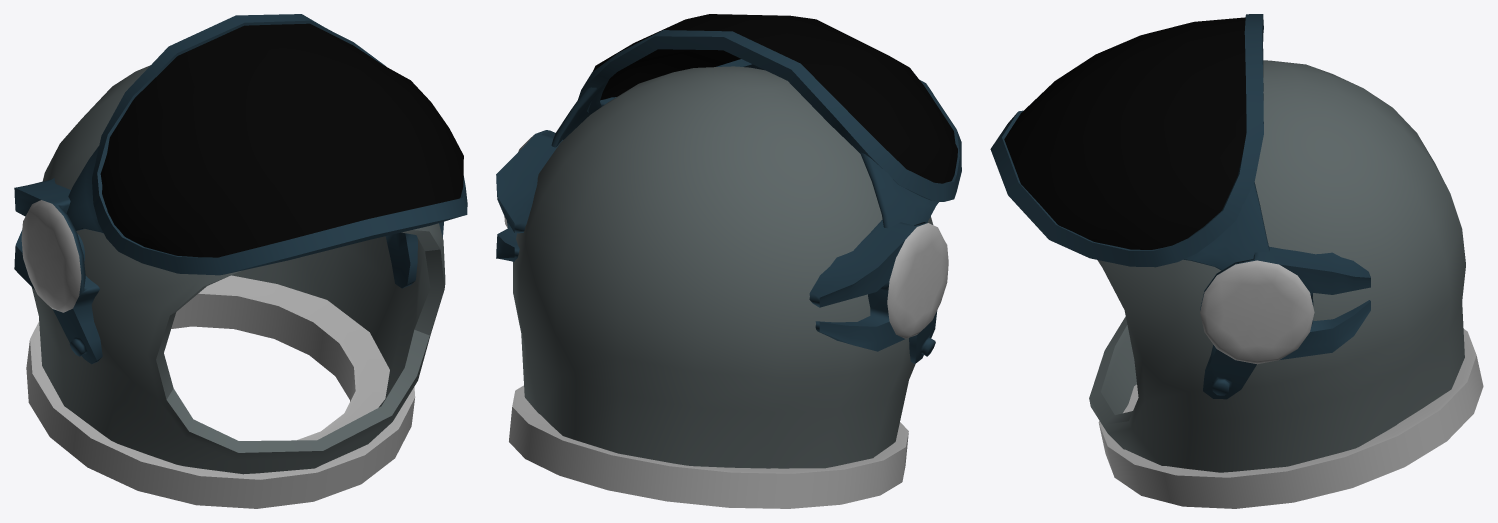
File: HelmetOpened.fbx
3 renders of one model, left to right at view 1: azimuth 30°, elevation 25°; view 2: azimuth 150°, elevation 25°; view 3: azimuth 270°, elevation 25°, orthographic. The views are drawn at different scales.
Parts seen in each view (by area): view 1: polySurface8, MainHelmet, CollarTop, polySurface9, polySurface27, polySurface23, polySurface25, polySurface24; view 2: MainHelmet, polySurface8, CollarTop, polySurface9, polySurface23, polySurface27, polySurface24, polySurface25, polySurface26; view 3: MainHelmet, polySurface8, CollarTop, polySurface9, polySurface28, polySurface24, polySurface26.
Boxes of the visible parts, bbox=[...] form: polySurface8: bbox=[100, 23, 463, 257]; MainHelmet: bbox=[31, 65, 445, 474]; CollarTop: bbox=[26, 275, 415, 508]; polySurface9: bbox=[92, 14, 467, 275]; polySurface27: bbox=[21, 200, 81, 312]; polySurface23: bbox=[14, 178, 102, 364]; polySurface25: bbox=[66, 146, 103, 233]; polySurface24: bbox=[385, 221, 443, 288]; MainHelmet: bbox=[513, 66, 933, 468]; polySurface8: bbox=[592, 14, 957, 183]; CollarTop: bbox=[509, 385, 908, 508]; polySurface9: bbox=[578, 30, 961, 201]; polySurface23: bbox=[809, 219, 937, 363]; polySurface27: bbox=[887, 223, 948, 338]; polySurface24: bbox=[496, 130, 562, 261]; polySurface25: bbox=[860, 152, 939, 228]; polySurface26: bbox=[551, 67, 608, 147]; MainHelmet: bbox=[1089, 60, 1465, 472]; polySurface8: bbox=[1004, 17, 1246, 249]; CollarTop: bbox=[1098, 329, 1483, 508]; polySurface9: bbox=[990, 14, 1263, 267]; polySurface28: bbox=[1200, 260, 1314, 364]; polySurface24: bbox=[1200, 246, 1370, 399]; polySurface26: bbox=[1183, 158, 1269, 270].
Bounding box in the file's own units: 1.78 × 1.89 × 2.
